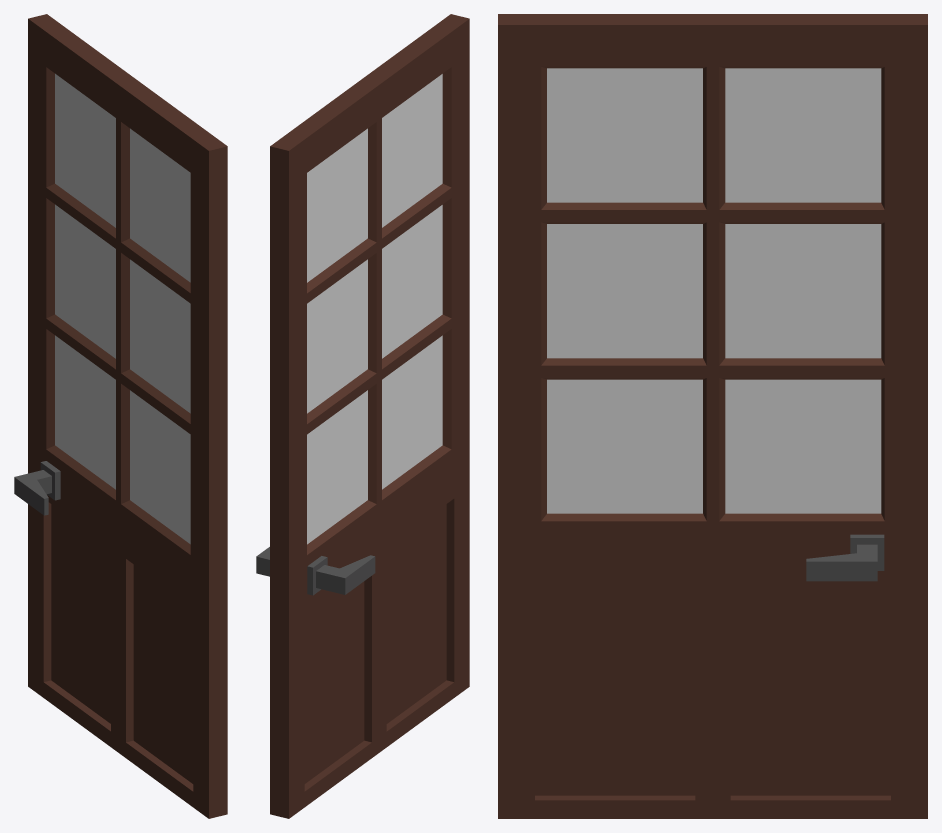
File: Door B-col.glb
3 renders of one model, left to right at view 1: azimuth 30°, elevation 25°; view 2: azimuth 150°, elevation 25°; view 3: azimuth 270°, elevation 25°, orthographic. The views are drawn at different scales.
Parts seen in each view (by area): view 1: Door B-col; view 2: Door B-col; view 3: Door B-col.
Part boxes in pixels (bbox=[...]): Door B-col: bbox=[14, 14, 227, 818]; Door B-col: bbox=[256, 14, 469, 818]; Door B-col: bbox=[498, 14, 927, 818].
Size of the model in its own units: 0.2511 by 1.8 by 0.8831.
